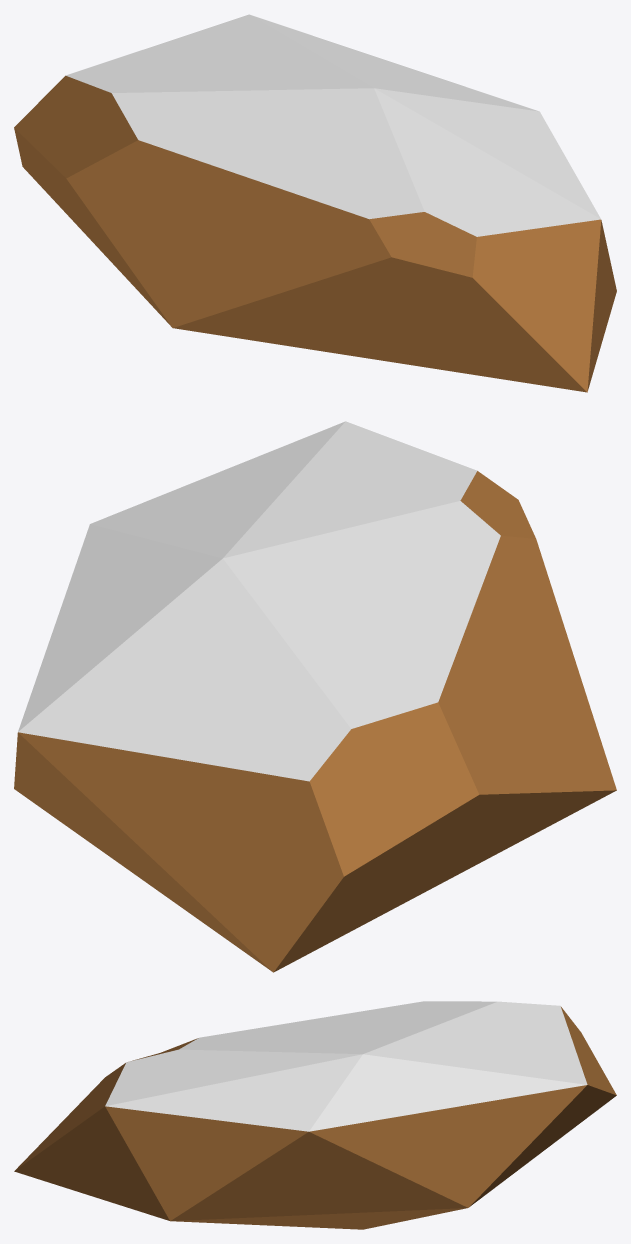
The model's file is Rock Small Snow.fbx.
The picture shows the model from 3 angles, top to bottom: view 1: azimuth 30°, elevation 25°; view 2: azimuth 150°, elevation 25°; view 3: azimuth 270°, elevation 25°; orthographic projection. The views are drawn at different scales.
Visible parts, largest first — view 1: Snow Stone Small; view 2: Snow Stone Small; view 3: Snow Stone Small.
Part boxes in pixels (x1=…): Snow Stone Small: x1=14, y1=14, x2=616, y2=392; Snow Stone Small: x1=14, y1=421, x2=616, y2=972; Snow Stone Small: x1=14, y1=1001, x2=616, y2=1229.
Bounding box in the file's own units: 0.2423 × 0.1316 × 0.4097.
